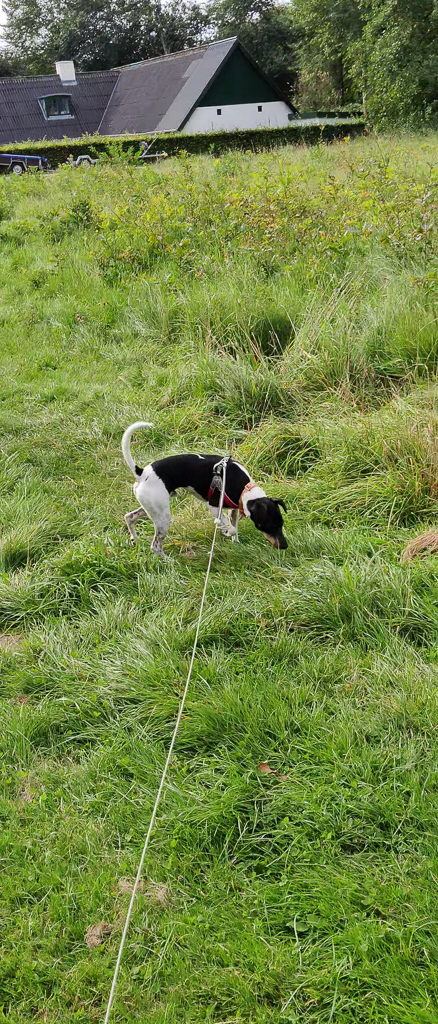Dog: (103, 416, 304, 565)
